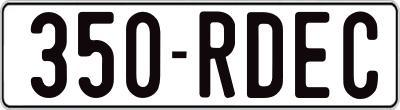0: (124, 9, 163, 97)
3: (30, 10, 68, 100)
5: (75, 9, 115, 98)
C: (340, 12, 378, 102)
D: (247, 12, 284, 101)
E: (292, 9, 331, 95)
R: (198, 8, 238, 101)
